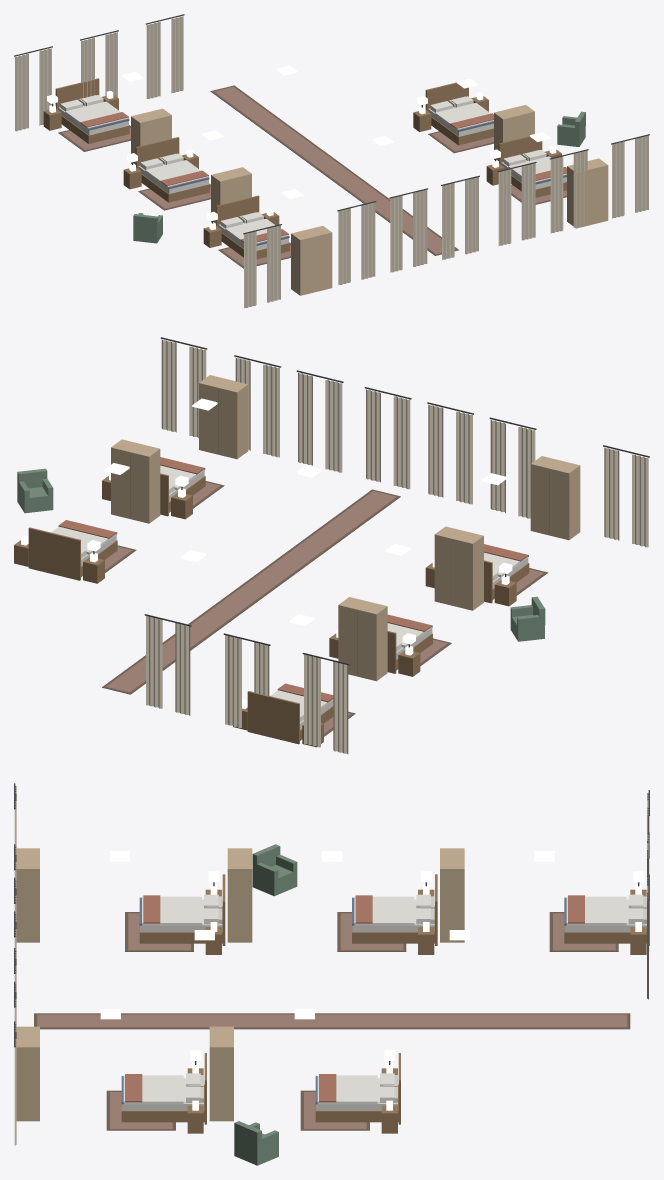
Rendered from fine-s2.glb.
The picture shows the model from 3 angles, top to bottom: view 1: azimuth 30°, elevation 25°; view 2: azimuth 150°, elevation 25°; view 3: azimuth 270°, elevation 25°; orthographic projection. The views are drawn at different scales.
Visible parts, largest first — view 1: soft-s2, dresser.009, dresser.006, bed-frame.008, bed-frame.007, bed-frame.005, bed-frame.009, dresser.007, dresser.008, dresser.005, bed-frame.006, lounge-chair.002 (+1 smaller); view 2: soft-s2, dresser.009, dresser.008, dresser.007, dresser.005, dresser.006, bed-frame.005, bed-frame.007, lounge-chair.002, lounge-chair.003, bed-frame.008, bed-frame.009 (+1 smaller); view 3: soft-s2, dresser.008, dresser.005, dresser.006, dresser.009, dresser.007, lounge-chair.003, bed-frame.006, bed-frame.008, bed-frame.005, bed-frame.009, bed-frame.007 (+1 smaller).
Part boxes in pixels (x1=…): soft-s2: x1=14, y1=14, x2=649, y2=308; dresser.009: x1=291, y1=226, x2=332, y2=295; dresser.006: x1=567, y1=158, x2=608, y2=228; bed-frame.008: x1=135, y1=137, x2=209, y2=202; bed-frame.007: x1=55, y1=78, x2=129, y2=143; bed-frame.005: x1=425, y1=82, x2=493, y2=145; bed-frame.009: x1=216, y1=195, x2=289, y2=259; dresser.007: x1=131, y1=108, x2=171, y2=164; dresser.008: x1=211, y1=167, x2=251, y2=223; dresser.005: x1=494, y1=105, x2=534, y2=160; bed-frame.006: x1=498, y1=136, x2=566, y2=197; lounge-chair.002: x1=557, y1=111, x2=585, y2=146; soft-s2: x1=51, y1=337, x2=649, y2=754; dresser.009: x1=530, y1=456, x2=580, y2=540; dresser.008: x1=434, y1=526, x2=483, y2=610; dresser.007: x1=338, y1=597, x2=387, y2=681; dresser.005: x1=111, y1=439, x2=160, y2=523; dresser.006: x1=199, y1=375, x2=248, y2=459; bed-frame.005: x1=28, y1=527, x2=117, y2=580; bed-frame.007: x1=247, y1=691, x2=333, y2=744; lounge-chair.002: x1=17, y1=468, x2=53, y2=513; lounge-chair.003: x1=510, y1=596, x2=545, y2=641; bed-frame.008: x1=387, y1=625, x2=432, y2=673; bed-frame.009: x1=484, y1=555, x2=529, y2=603; soft-s2: x1=14, y1=783, x2=649, y2=1145; dresser.008: x1=227, y1=848, x2=252, y2=942; dresser.005: x1=209, y1=1026, x2=233, y2=1121; dresser.006: x1=16, y1=1026, x2=39, y2=1121; dresser.009: x1=16, y1=848, x2=39, y2=942; dresser.007: x1=440, y1=848, x2=464, y2=942; lounge-chair.003: x1=252, y1=844, x2=297, y2=896; bed-frame.006: x1=121, y1=1053, x2=206, y2=1124; bed-frame.008: x1=352, y1=874, x2=437, y2=945; bed-frame.005: x1=315, y1=1053, x2=400, y2=1124; bed-frame.009: x1=139, y1=874, x2=225, y2=945; bed-frame.007: x1=564, y1=874, x2=649, y2=945.
Bounding box in the file's own units: 16.76 × 2.76 × 15.62.
